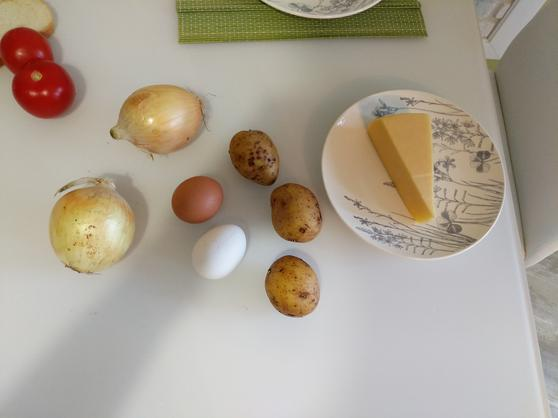cheese: (370, 109, 438, 225)
egg: (195, 218, 249, 284), (171, 170, 229, 225)
onion: (39, 173, 140, 279), (111, 79, 214, 156)
potato: (263, 175, 324, 243), (263, 252, 324, 320), (222, 125, 285, 183)
tomato: (9, 58, 78, 118), (1, 25, 57, 73)
